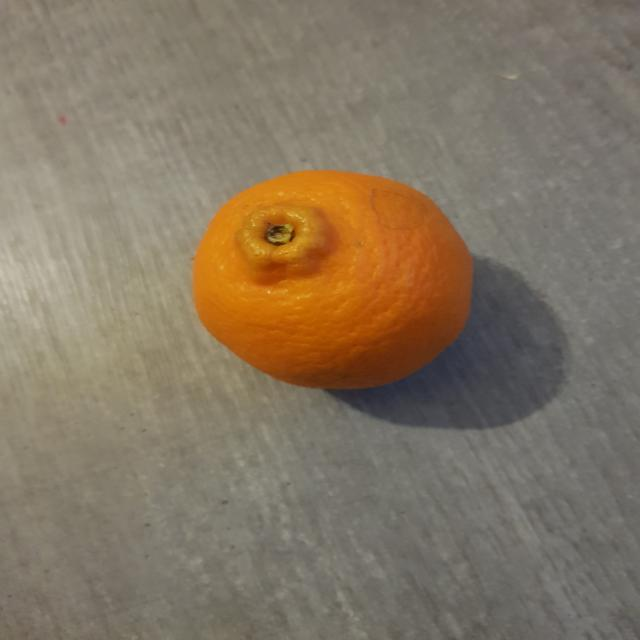Orange: (190, 170, 475, 393)
